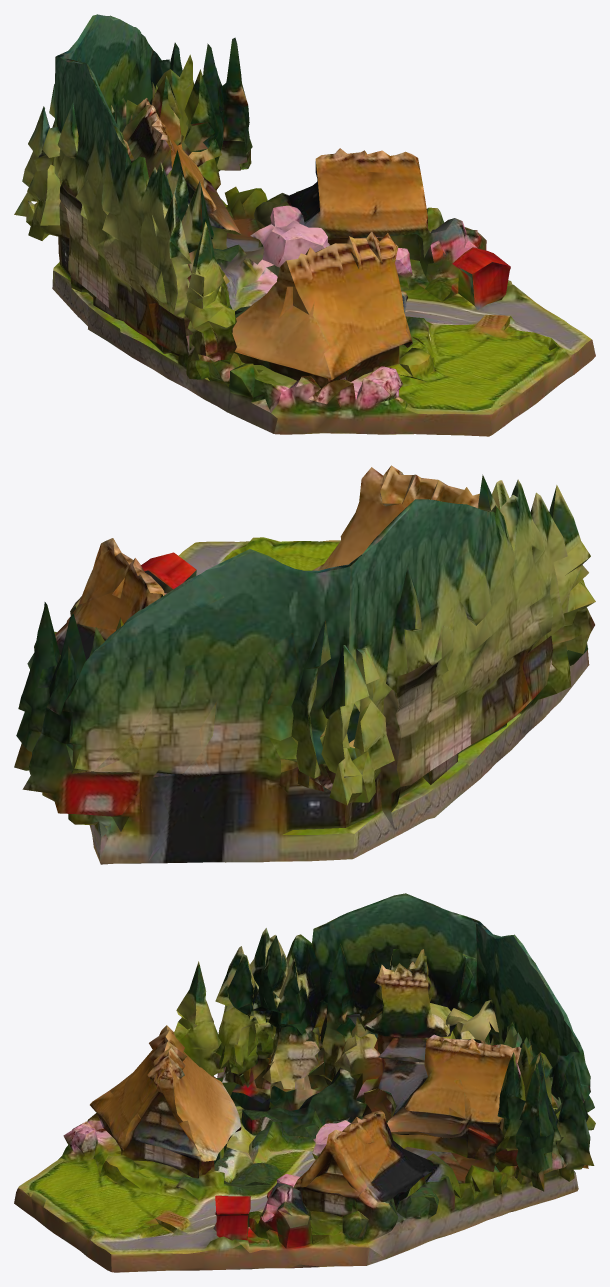
The model's file is miyama-kayabuki.glb.
The picture shows the model from 3 angles, top to bottom: view 1: azimuth 30°, elevation 25°; view 2: azimuth 150°, elevation 25°; view 3: azimuth 270°, elevation 25°; orthographic projection. The views are drawn at different scales.
Visible parts, largest first — view 1: logan-textured.obj; view 2: logan-textured.obj; view 3: logan-textured.obj.
Part boxes in pixels (<box>): logan-textured.obj: <box>14,14,595,436</box>; logan-textured.obj: <box>14,465,595,864</box>; logan-textured.obj: <box>14,893,595,1272</box>.
Bounding box in the file's own units: 0.646 × 0.4384 × 1.
Materials: 1 (1 with a texture image).
